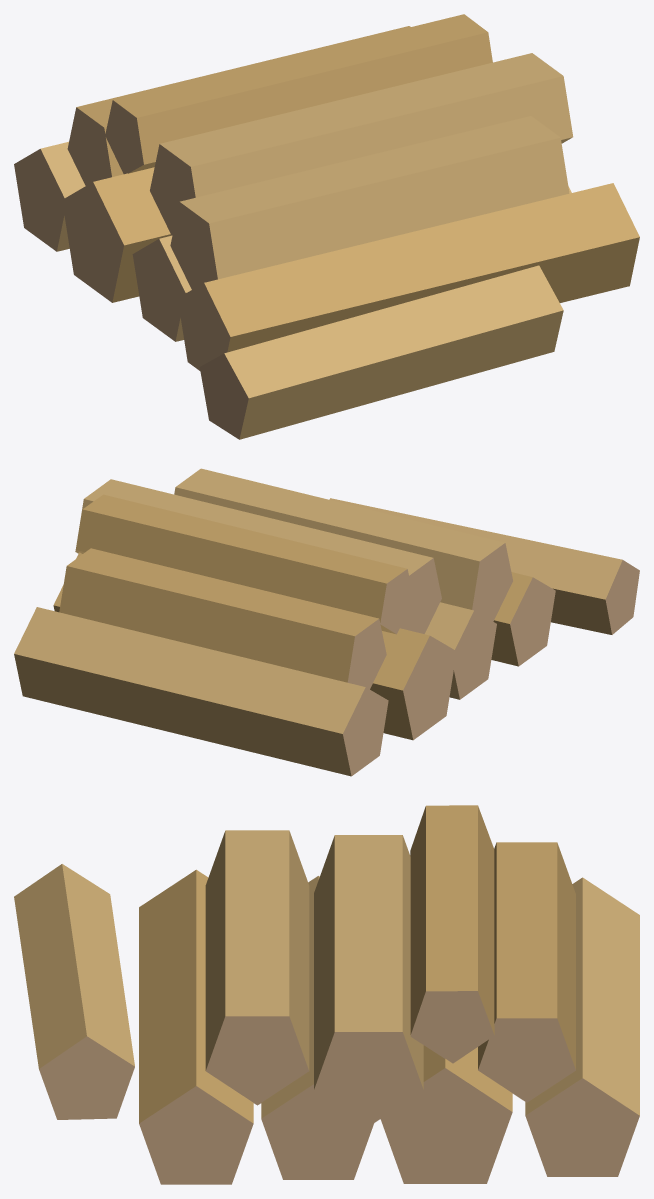
Rendered from Simple_Firewood_Pile_01_LOD.fbx.
3 views of the same model, one above another, from view 1: azimuth 30°, elevation 25°; view 2: azimuth 150°, elevation 25°; view 3: azimuth 270°, elevation 25° (orthographic). The views are drawn at different scales.
Parts seen in each view (by area): view 1: Simple_Firewood_Pile_01_LOD0; view 2: Simple_Firewood_Pile_01_LOD0; view 3: Simple_Firewood_Pile_01_LOD0.
Boxes of the visible parts, <box> form: Simple_Firewood_Pile_01_LOD0: <box>14,14,639,439</box>; Simple_Firewood_Pile_01_LOD0: <box>14,468,639,776</box>; Simple_Firewood_Pile_01_LOD0: <box>14,805,639,1184</box>.
Size of what is drawn, in the model's own units: 67.36 by 23.41 by 72.1.
